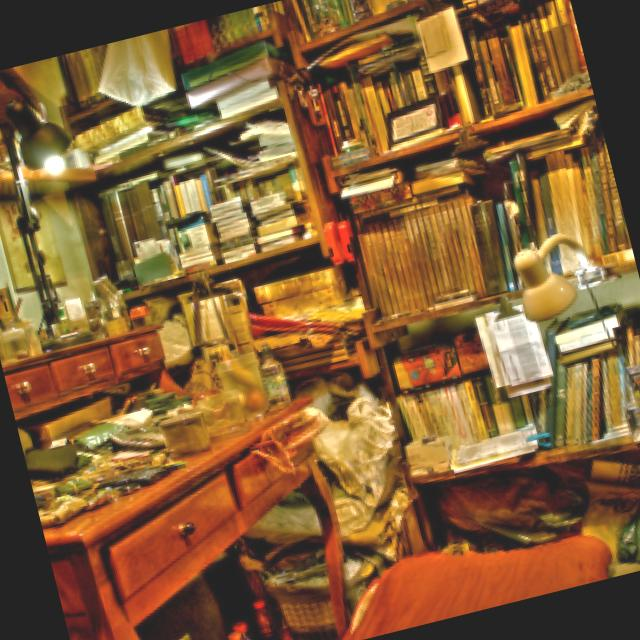mess: (274, 0, 640, 614), (96, 74, 386, 487), (18, 349, 340, 556), (0, 247, 146, 369)
